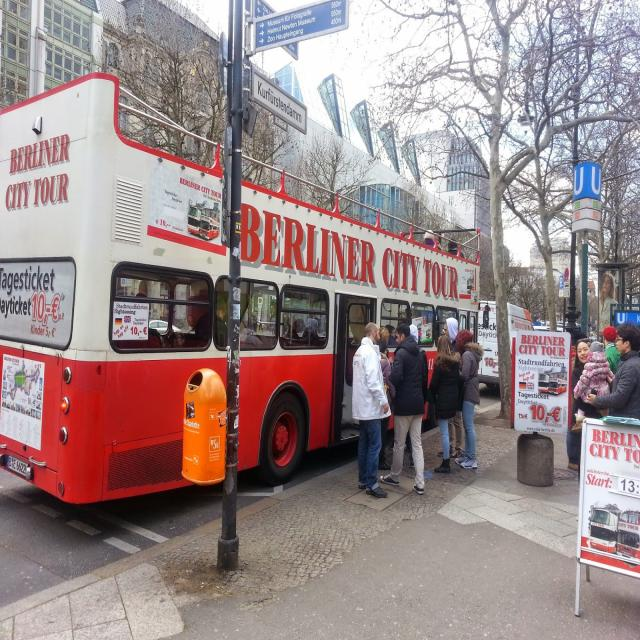body: (378, 321, 431, 496), (350, 320, 393, 498), (114, 269, 190, 348), (565, 338, 603, 489), (426, 333, 464, 475), (585, 322, 640, 420), (450, 328, 486, 470), (570, 340, 616, 434), (400, 323, 429, 468), (436, 316, 464, 461), (248, 287, 304, 348), (376, 340, 396, 471), (299, 316, 336, 386), (194, 296, 228, 348), (599, 273, 620, 334), (602, 324, 623, 378), (378, 325, 396, 350), (446, 238, 464, 259), (423, 229, 435, 248)
